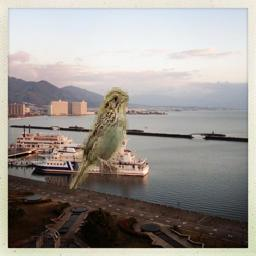Sparrow: (67, 87, 129, 189)
